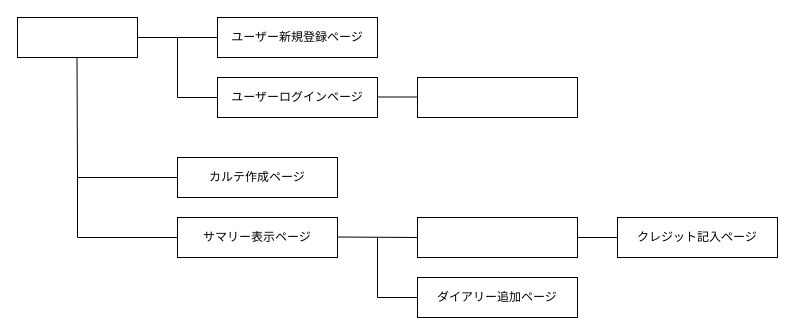
Some shapes in this 795 by 335 pixel diagram are drawn without their labels. The shapes that lost their labels are listed below. From the top down, each one's centre as x and y in pixels, then its label:
the point at 77,37: トップページ
the point at 497,97: ユーザー編集ページ
the point at 497,237: アセスメント追加ページ
